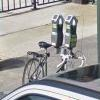Bicycle: (20, 36, 87, 90)
